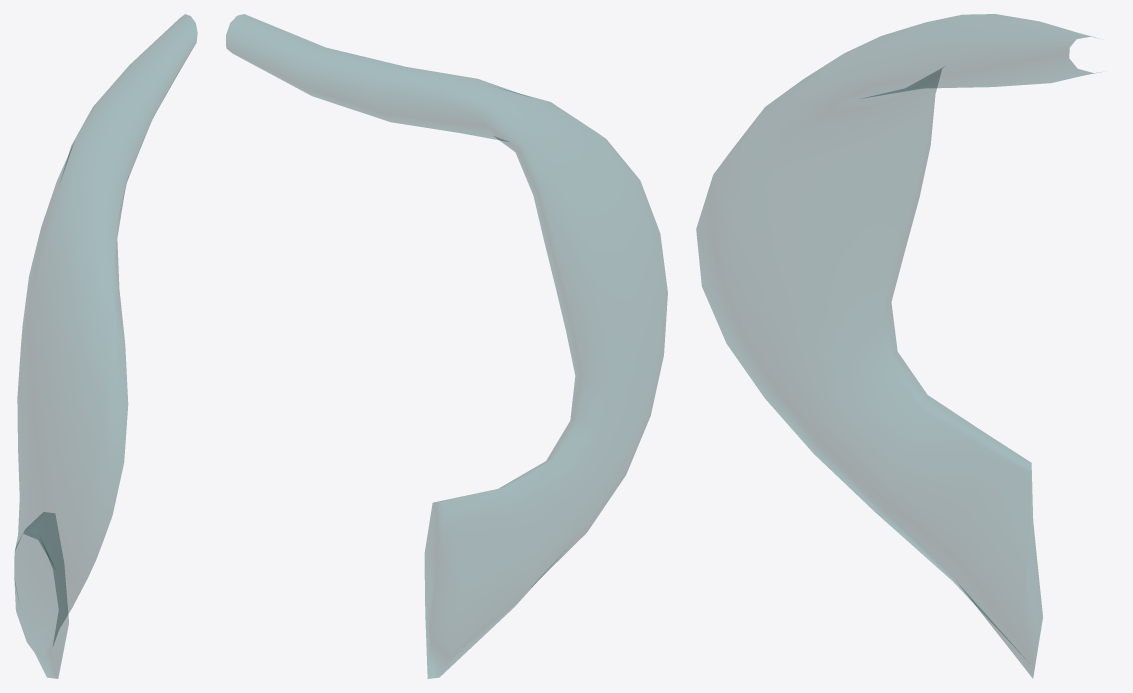
Rendered from Transperent Carebellum_Part_A.gltf.
3 views of the same model, side by side, from view 1: azimuth 30°, elevation 25°; view 2: azimuth 150°, elevation 25°; view 3: azimuth 270°, elevation 25° (orthographic). The views are drawn at different scales.
Visible parts, largest first — view 1: Carebellum_Part_A; view 2: Carebellum_Part_A; view 3: Carebellum_Part_A.
Part boxes in pixels (x1,y1,x2,y2): Carebellum_Part_A: [14, 14, 197, 678]; Carebellum_Part_A: [226, 14, 667, 678]; Carebellum_Part_A: [696, 14, 1095, 677].
Bounding box in the file's own units: 1.2 × 2.57 × 1.34.
